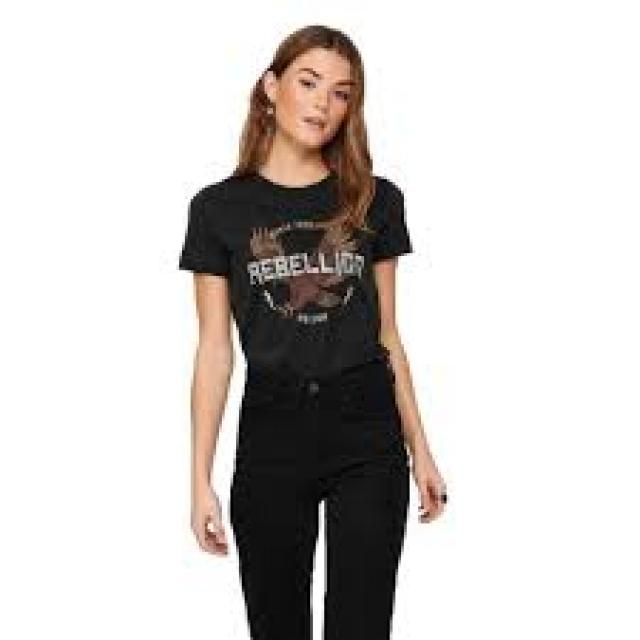Shirt: (159, 166, 440, 399)
